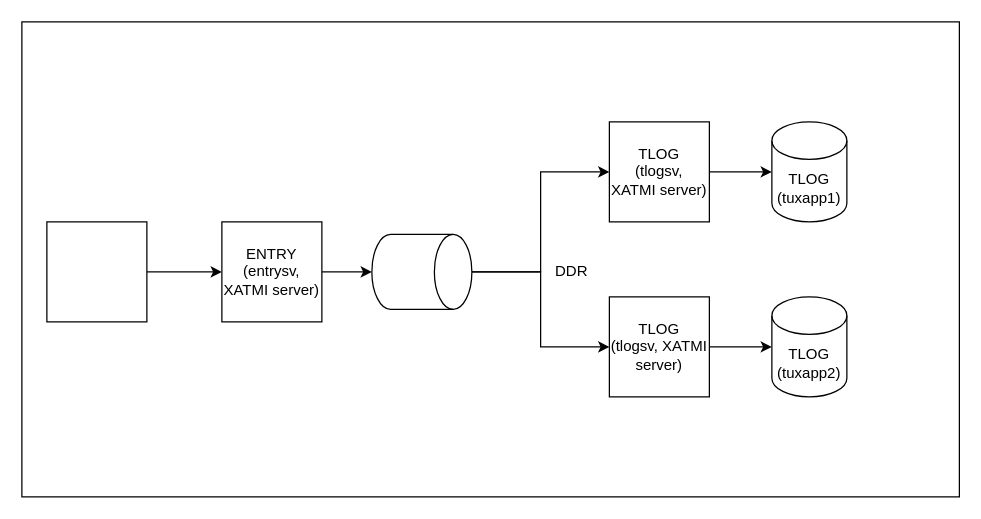
The diagram is 981 pixels wide and 519 high, and some of its shapes have lost their labels. The centre of each missing label's shape, as x and y in pixels:
"Q1" goes at (421,271).
"txgencl (XATMI client)" goes at (96,271).
